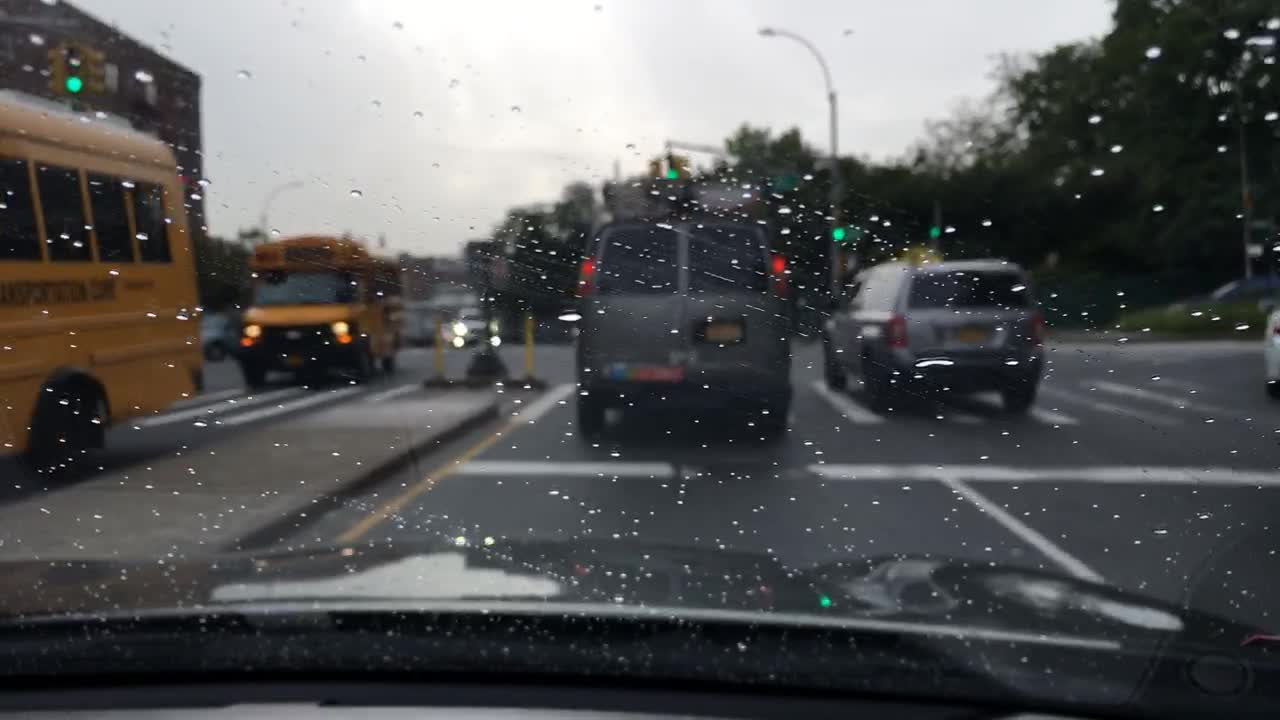bus: (0, 88, 206, 474), (233, 236, 401, 391)
car: (578, 218, 792, 440), (819, 251, 1046, 412), (1167, 281, 1278, 313), (446, 311, 501, 344), (199, 310, 234, 361), (1262, 302, 1279, 390)
traffic light: (83, 47, 108, 96), (62, 46, 85, 93), (46, 44, 62, 93), (666, 159, 680, 183), (647, 158, 662, 180), (678, 155, 690, 182), (831, 225, 847, 244), (927, 225, 940, 239)
traffic sign: (767, 177, 808, 189), (1244, 243, 1261, 259), (1254, 219, 1271, 228)
